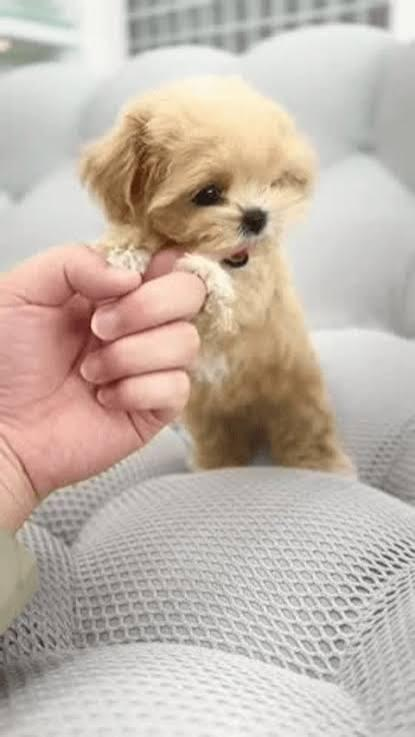puppy-dog: (77, 69, 352, 478)
